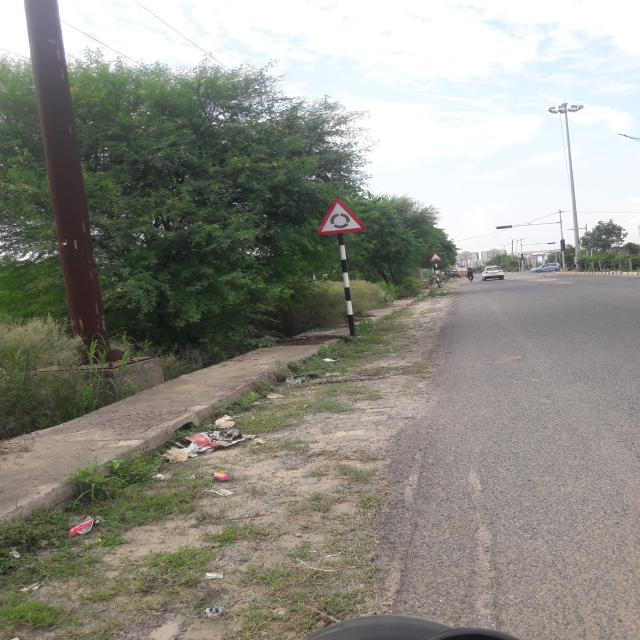roundabout: (315, 198, 364, 235)
